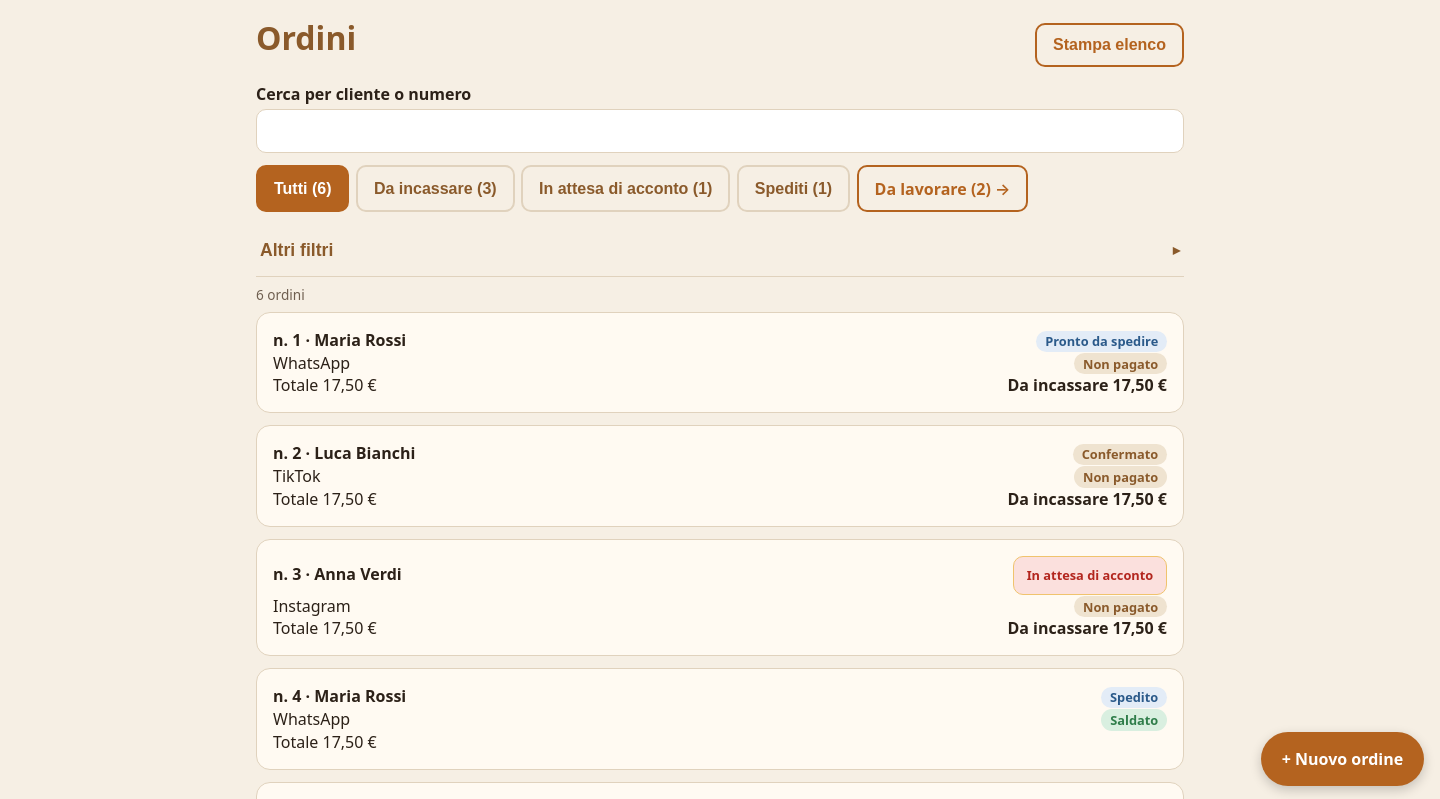
Test case: scorciatoie con contatori › il conteggio dice quanti ordini si vedono su quanti ce ne sono
The width and height of the screenshot is (1440, 799).
Expected: the text "6 ordini" is shown, [256,285,305,304]
Step 1. Click the button "Spediti (1)" → (794, 189), box [737,165,850,212]
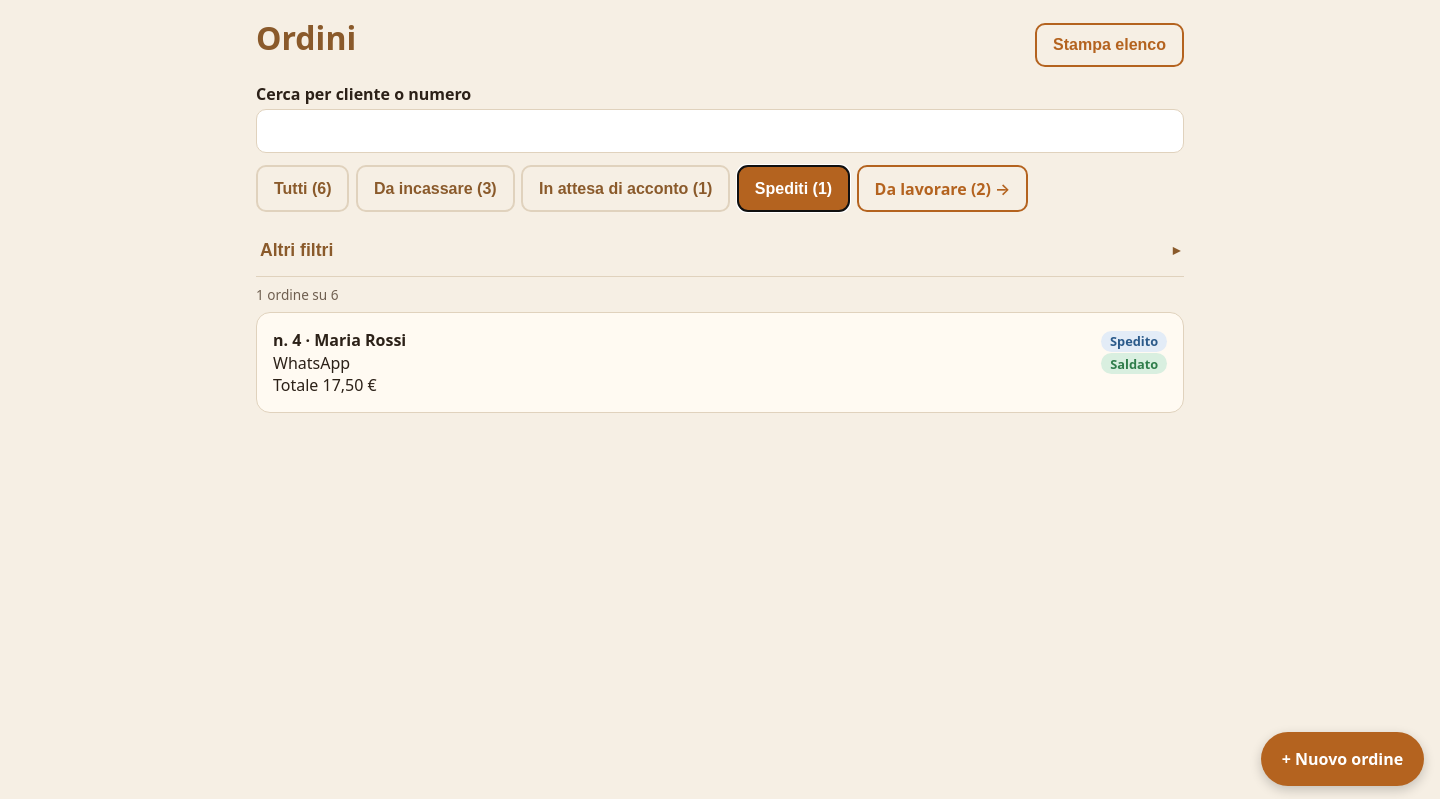
Expected: the text "1 ordine su 6" is shown, [256,285,339,304]
